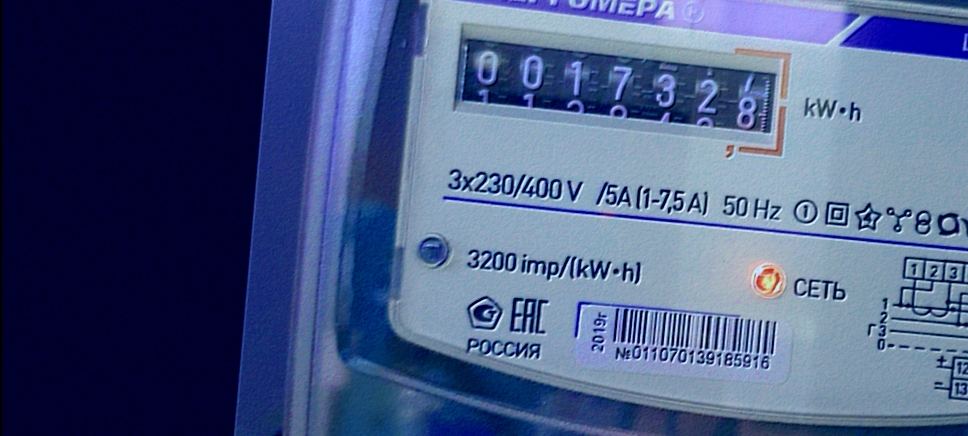0: (474, 47, 504, 89), (522, 52, 548, 92)
1: (566, 57, 588, 99)
2: (697, 77, 722, 116)
3: (655, 72, 680, 110)
7: (610, 63, 636, 104)
8: (737, 93, 759, 130)
screen: (442, 19, 804, 166)
